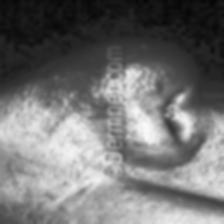Non-Cancerous Skin Condition: (33, 65, 105, 118)
